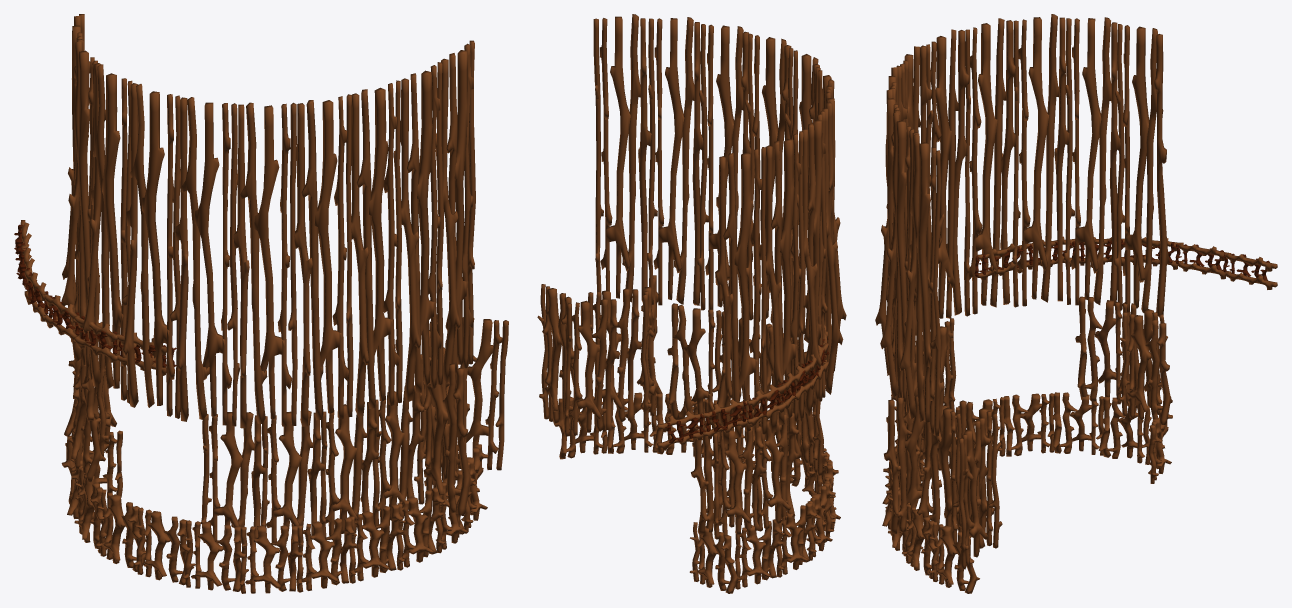
File: SticksLvl4.fbx
The picture shows the model from 3 angles, left to right: view 1: azimuth 30°, elevation 25°; view 2: azimuth 150°, elevation 25°; view 3: azimuth 270°, elevation 25°; orthographic projection. The views are drawn at different scales.
Visible parts, largest first — view 1: Stick.005, Stick.006, Stick.009, Stick.008, Stick.007, Stick.018, Stick.013; view 2: Stick.005, Stick.008, Stick.006, Stick.007, Stick.009, Stick.018, Stick.013; view 3: Stick.005, Stick.006, Stick.008, Stick.007, Stick.018, Stick.009, Stick.013.
Boxes of the visible parts, left/top/right/bottom form: Stick.005: left=61, top=14, right=475, bottom=428; Stick.006: left=61, top=430, right=488, bottom=593; Stick.009: left=201, top=385, right=424, bottom=542; Stick.008: left=414, top=314, right=508, bottom=515; Stick.007: left=64, top=322, right=116, bottom=482; Stick.018: left=20, top=220, right=166, bottom=375; Stick.013: left=14, top=224, right=176, bottom=367; Stick.005: left=593, top=14, right=846, bottom=444; Stick.008: left=537, top=275, right=662, bottom=436; Stick.006: left=553, top=392, right=840, bottom=593; Stick.007: left=691, top=412, right=799, bottom=539; Stick.009: left=667, top=303, right=826, bottom=475; Stick.018: left=657, top=325, right=828, bottom=450; Stick.013: left=665, top=338, right=829, bottom=443; Stick.005: left=875, top=14, right=1169, bottom=436; Stick.006: left=882, top=392, right=1172, bottom=593; Stick.008: left=884, top=395, right=1002, bottom=569; Stick.007: left=1075, top=296, right=1172, bottom=424; Stick.018: left=977, top=236, right=1277, bottom=289; Stick.009: left=891, top=318, right=956, bottom=507; Stick.013: left=974, top=239, right=1269, bottom=280.
Size of the model in its own units: 1370 by 1732 by 1443.
